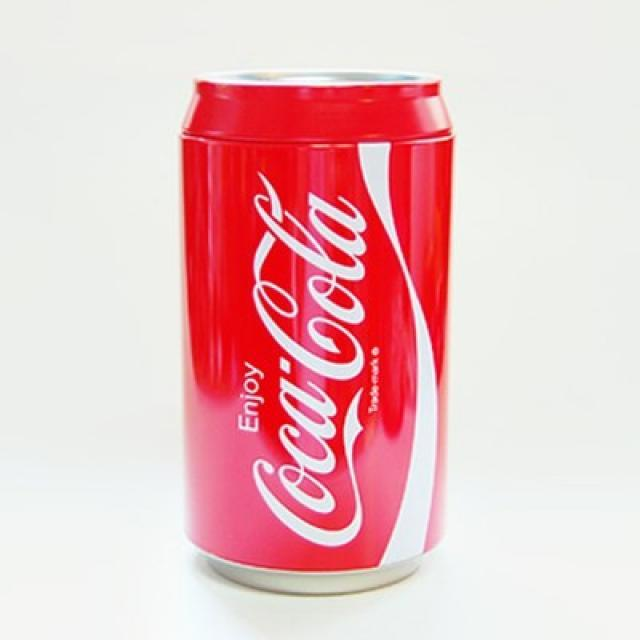coca-cola: (176, 70, 460, 594)
